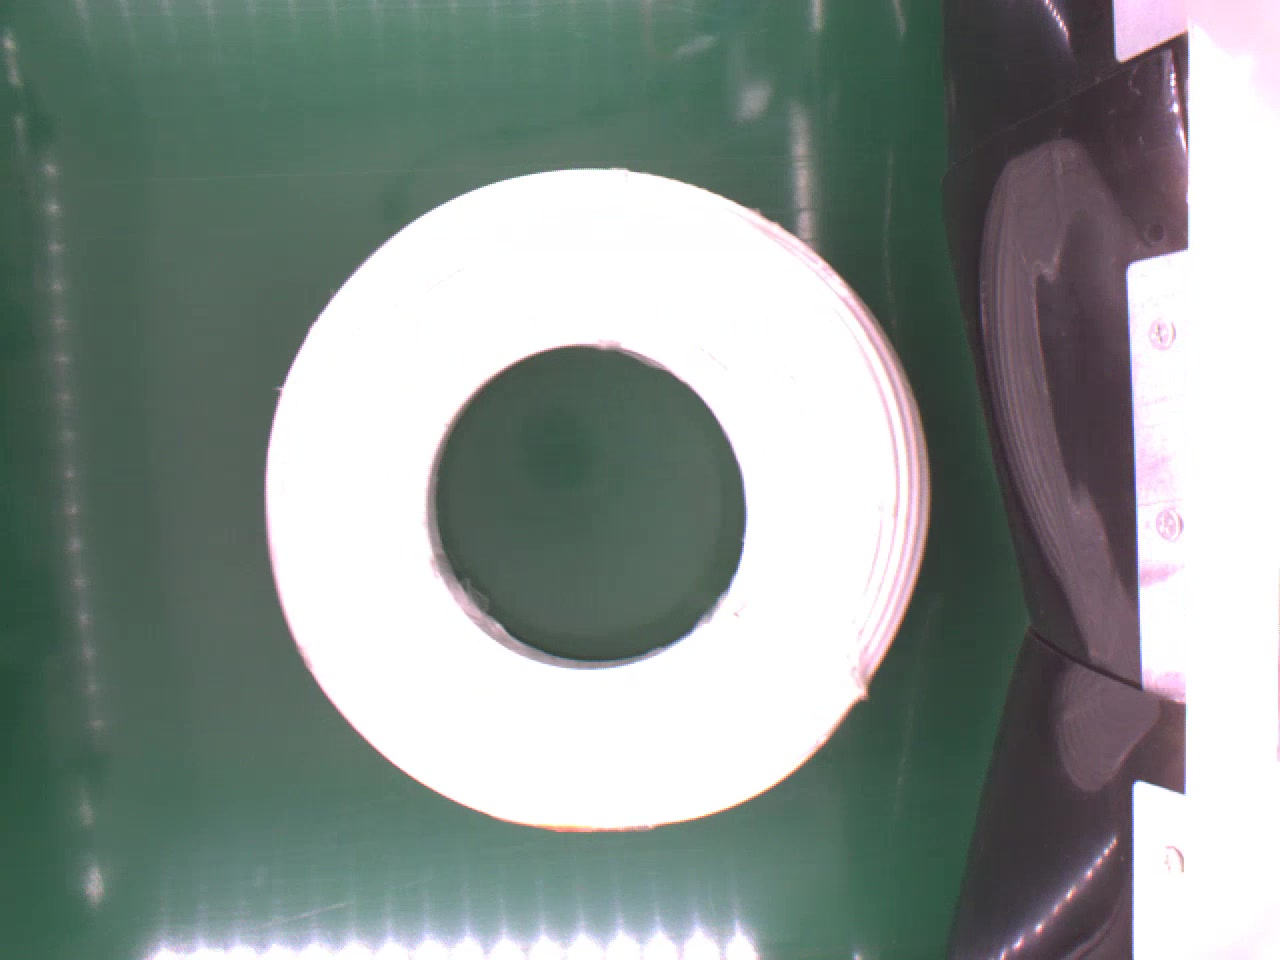white: (253, 162, 934, 835)
